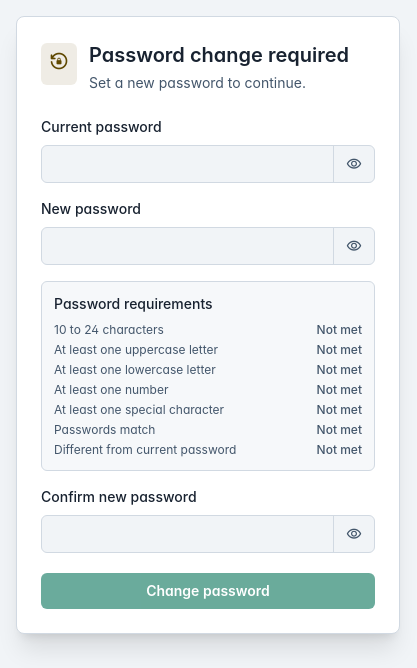
Test: AuthGate › shows password reveal controls on the required password change form even when empty
Check: the heading "Password change required" is shown, box [89,41,349,69]
Check: the button named "Show new password" is shown, box [333,228,374,264]
Click the button named "Show current password".
click(354, 164)  # box [333,146,374,182]
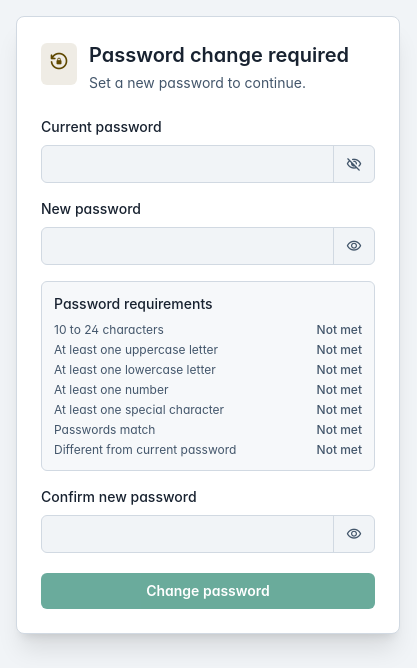
Check: the button named "Hide current password" is shown, box [333,146,374,182]
